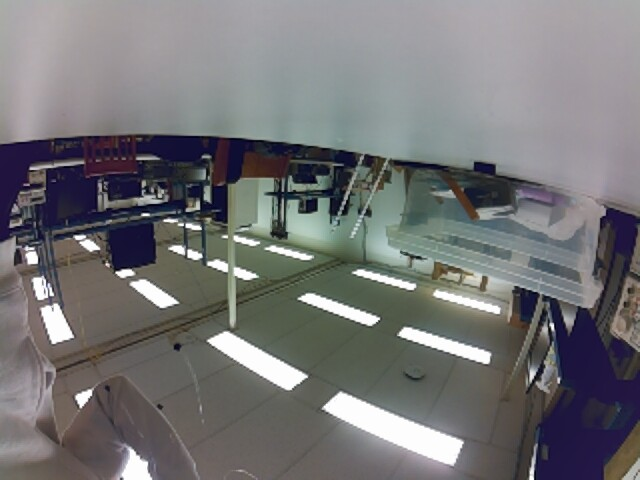mosquito: (171, 341, 184, 355), (156, 401, 165, 413), (104, 382, 111, 394)
